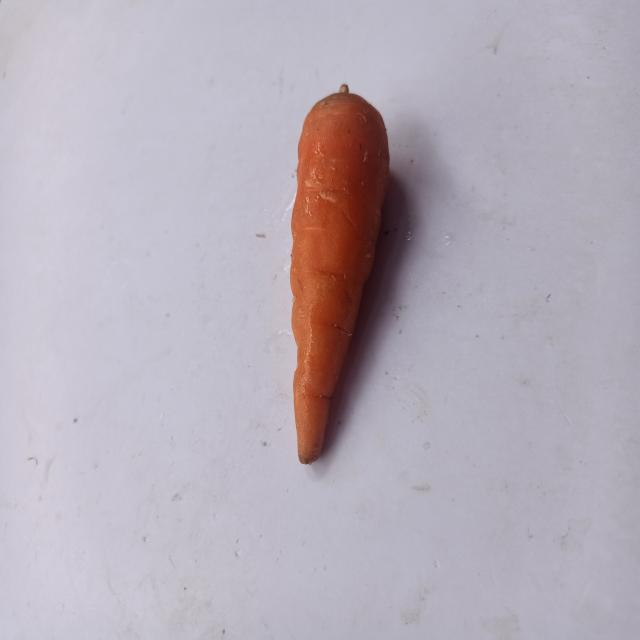Carrot: (240, 75, 398, 482)
